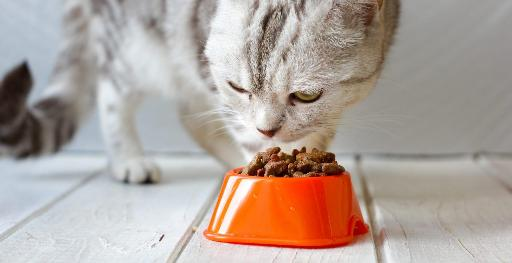cat_eating: (0, 0, 399, 247)
